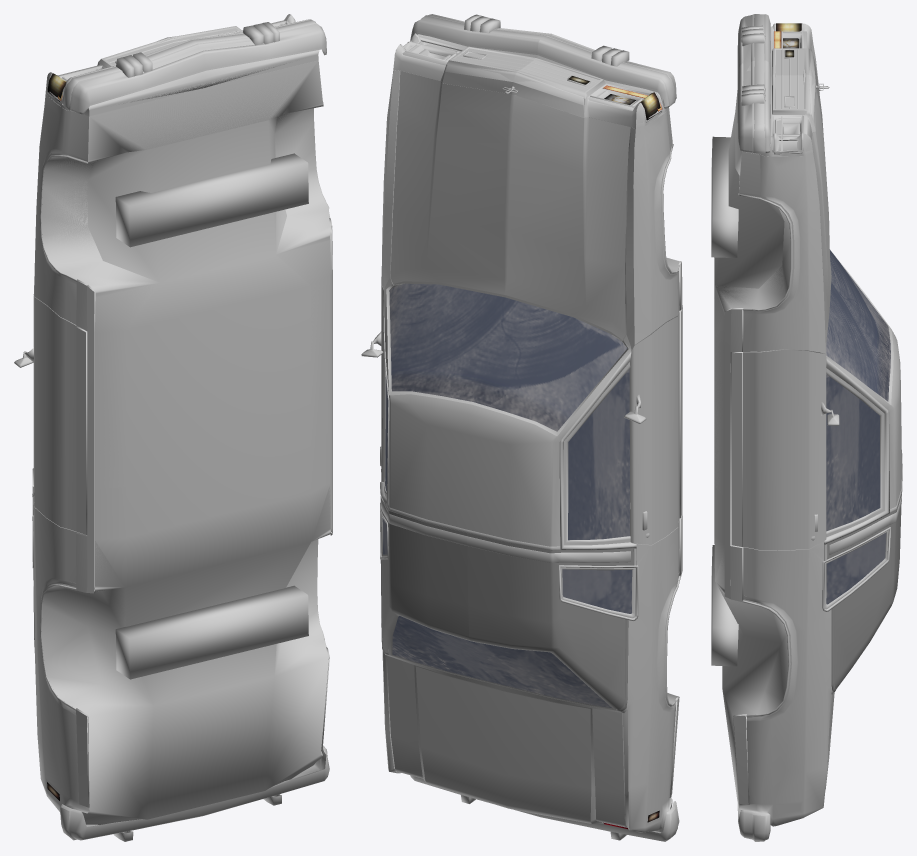
The model's file is Melbick2dr.FBX.
The picture shows the model from 3 angles, left to right: view 1: azimuth 30°, elevation 25°; view 2: azimuth 150°, elevation 25°; view 3: azimuth 270°, elevation 25°; orthographic projection. The views are drawn at different scales.
Visible parts, largest first — view 1: Misc, EngBay, Body_P, DoorPF_P, Bumper3, FrontEnd2Msc, BumperB1, TrimA, TrimB, TrimBpf, FrontEnd1Misc, Bumper2; view 2: Hood_P, Body_P, Trunk_P, Roof_EC, GlassFront, DoorPF_P, GlassdoorPF, GlassBack, Misc, Bumper3, FrontEnd2Msc, RoofB (+13 smaller); view 3: Body_P, Misc, DoorDF_P, EngBay, GlassdoorDF, GlassFront, Roof_EC, FrontEnd2Msc, TrimB, Bumper3, TrimBdf, Hood_P (+10 smaller).
Part boxes in pixels (box(x1,y1,x2,y2)): Misc: box(32, 60, 330, 824); EngBay: box(32, 60, 331, 824); Body_P: box(33, 91, 328, 813); DoorPF_P: box(33, 296, 76, 531); Bumper3: box(62, 19, 326, 112); FrontEnd2Msc: box(47, 14, 319, 116); BumperB1: box(60, 745, 329, 840); TrimA: box(86, 225, 332, 593); TrimB: box(76, 218, 332, 807); TrimBpf: box(76, 326, 87, 534); FrontEnd1Misc: box(49, 21, 318, 106); Bumper2: box(62, 20, 326, 114); Hood_P: box(390, 71, 630, 339); Body_P: box(381, 68, 679, 832); Trunk_P: box(387, 655, 625, 826); Roof_EC: box(380, 497, 633, 711); GlassFront: box(389, 283, 627, 431); DoorPF_P: box(563, 312, 679, 545); GlassdoorPF: box(568, 369, 629, 540); GlassBack: box(392, 616, 611, 707); Misc: box(380, 70, 679, 827); Bumper3: box(410, 14, 676, 106); FrontEnd2Msc: box(400, 33, 662, 122); RoofB: box(380, 496, 636, 565); Body_P: box(731, 44, 901, 826); Misc: box(711, 113, 893, 813); DoorDF_P: box(743, 349, 884, 550); EngBay: box(714, 90, 891, 812); GlassdoorDF: box(826, 374, 880, 531); GlassFront: box(826, 249, 890, 401); Roof_EC: box(827, 492, 901, 692); FrontEnd2Msc: box(772, 23, 827, 154); TrimB: box(730, 308, 749, 804); Bumper3: box(737, 14, 770, 151); TrimBdf: box(731, 352, 742, 546); Hood_P: box(811, 47, 831, 344).
Size of the model in its own units: 205 by 547 by 129.
